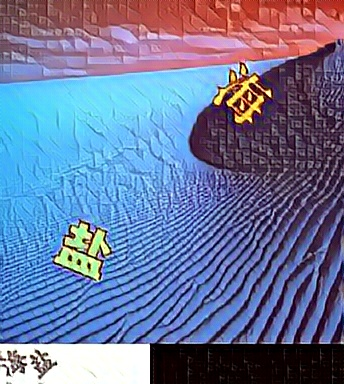BAA3: (208, 63, 275, 127)
D1CE: (49, 217, 116, 281)
